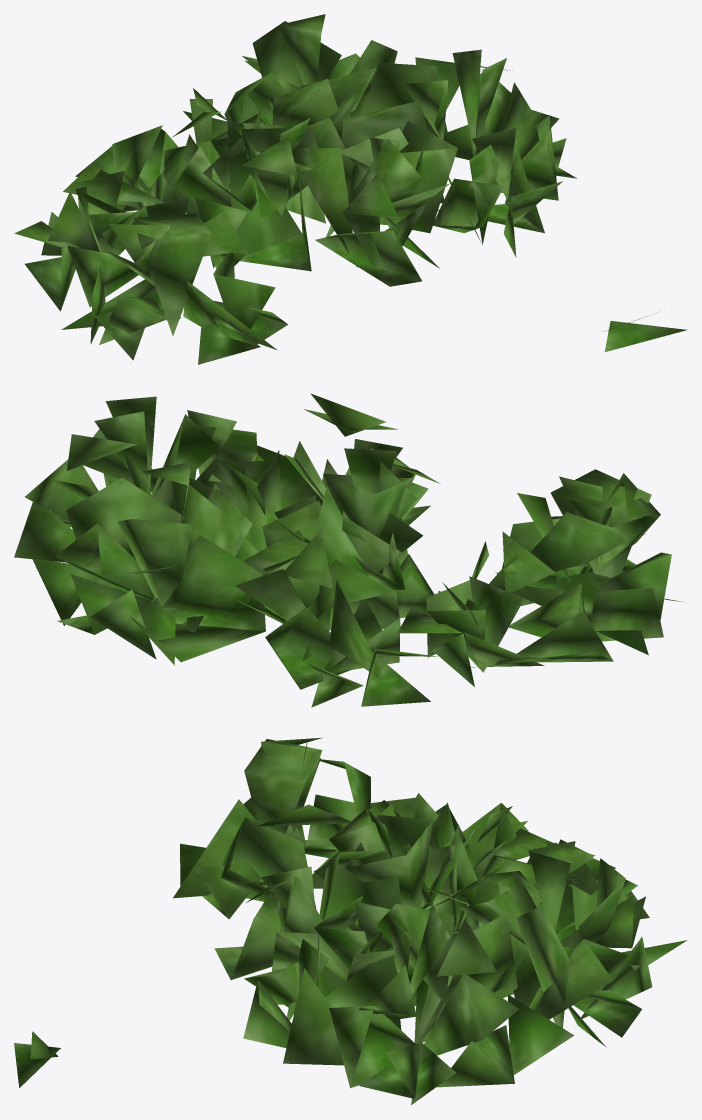
File: crop-watercress.lod1.glb
The picture shows the model from 3 angles, top to bottom: view 1: azimuth 30°, elevation 25°; view 2: azimuth 150°, elevation 25°; view 3: azimuth 270°, elevation 25°; orthographic projection. The views are drawn at different scales.
Parts seen in each view (by area): view 1: plant.001; view 2: plant.001; view 3: plant.001.
Part boxes in pixels (bbox=[...]): plant.001: bbox=[14, 14, 686, 364]; plant.001: bbox=[14, 393, 686, 707]; plant.001: bbox=[14, 737, 687, 1104].
Size of the model in its own units: 0.3514 by 0.0994 by 0.3604.
Materials: 1 (1 with a texture image).
